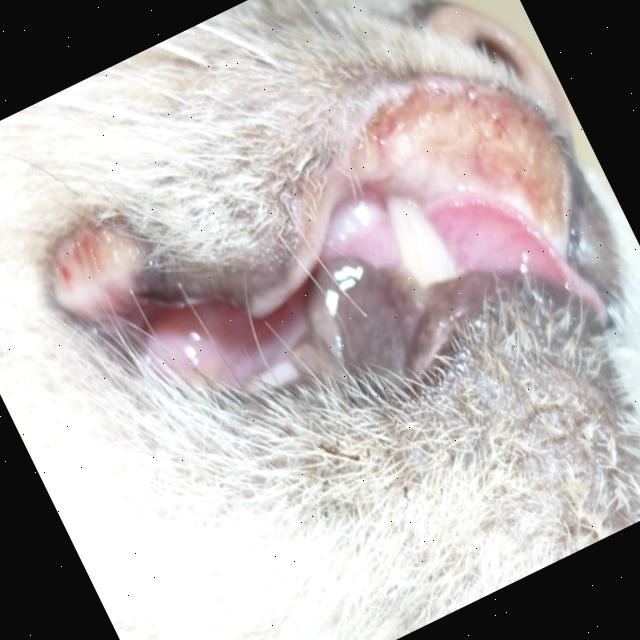cat-ulcer: (343, 82, 575, 296), (11, 186, 174, 348)
